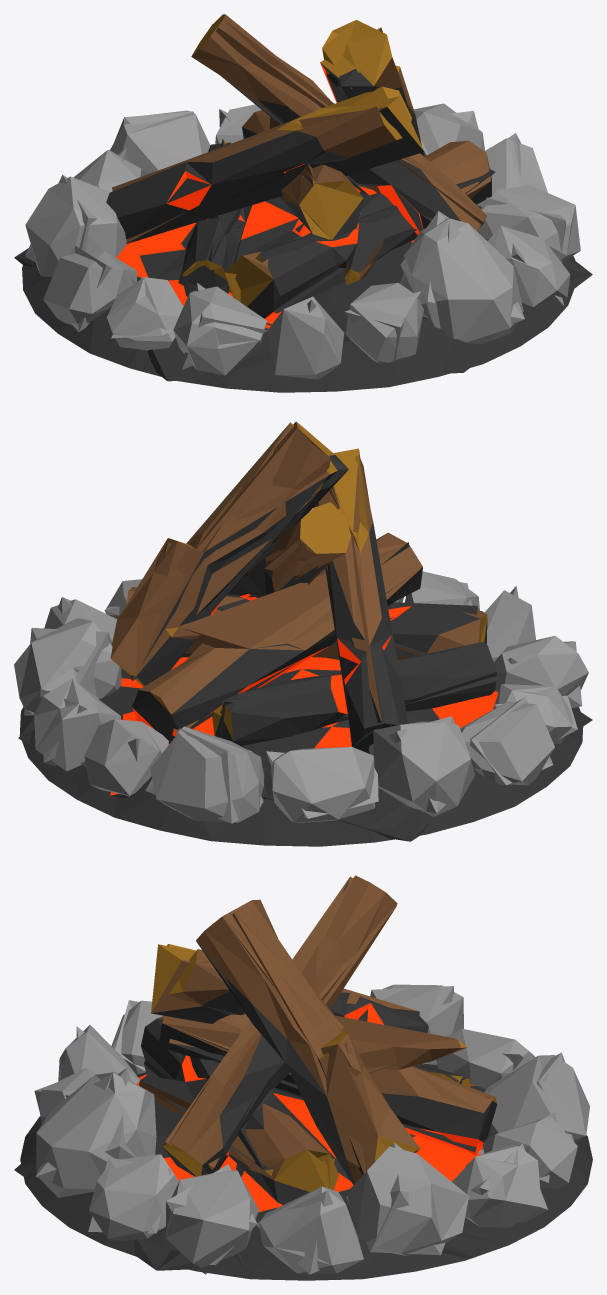
File: Assets_Campfire.fbx
The picture shows the model from 3 angles, top to bottom: view 1: azimuth 30°, elevation 25°; view 2: azimuth 150°, elevation 25°; view 3: azimuth 270°, elevation 25°; orthographic projection. The views are drawn at different scales.
Visible parts, largest first — view 1: Village_Firepit01_LOD01, Village_Firepit01_LOD02, Village_Firepit01_LOD03; view 2: Village_Firepit01_LOD01, Village_Firepit01_LOD02, Village_Firepit01_LOD03; view 3: Village_Firepit01_LOD01, Village_Firepit01_LOD02, Village_Firepit01_LOD03.
Part boxes in pixels (x1,y1,x2,y2): Village_Firepit01_LOD01: [22, 14, 580, 392]; Village_Firepit01_LOD02: [43, 19, 575, 387]; Village_Firepit01_LOD03: [14, 27, 592, 381]; Village_Firepit01_LOD01: [14, 421, 588, 846]; Village_Firepit01_LOD02: [29, 422, 573, 838]; Village_Firepit01_LOD03: [18, 422, 592, 841]; Village_Firepit01_LOD01: [20, 875, 592, 1280]; Village_Firepit01_LOD02: [43, 876, 589, 1277]; Village_Firepit01_LOD03: [14, 876, 574, 1274].
Size of the model in its own units: 247 by 133 by 244.
